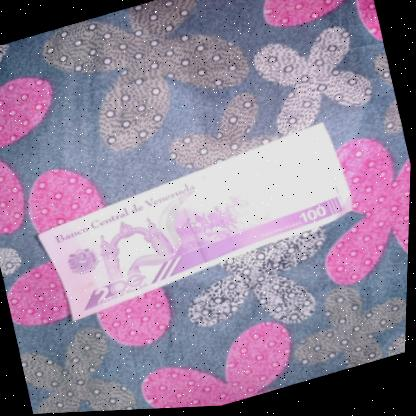one_hundred-back-vef: (29, 120, 365, 328)
